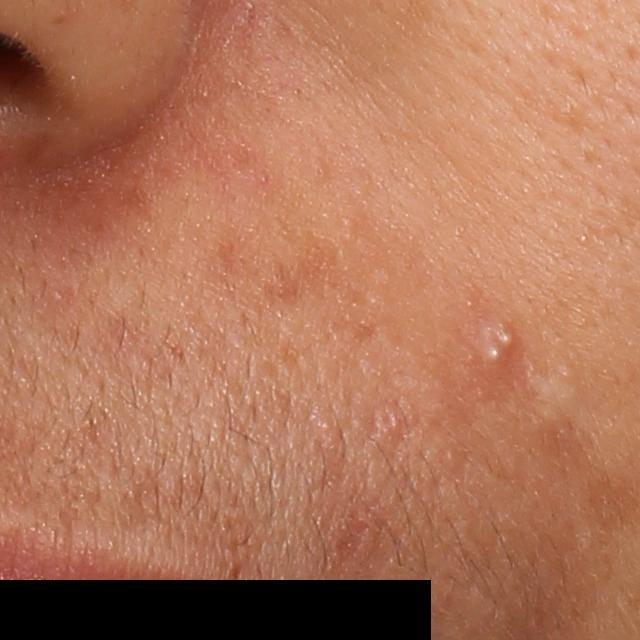hypertrophic_scar: (521, 368, 583, 428)
